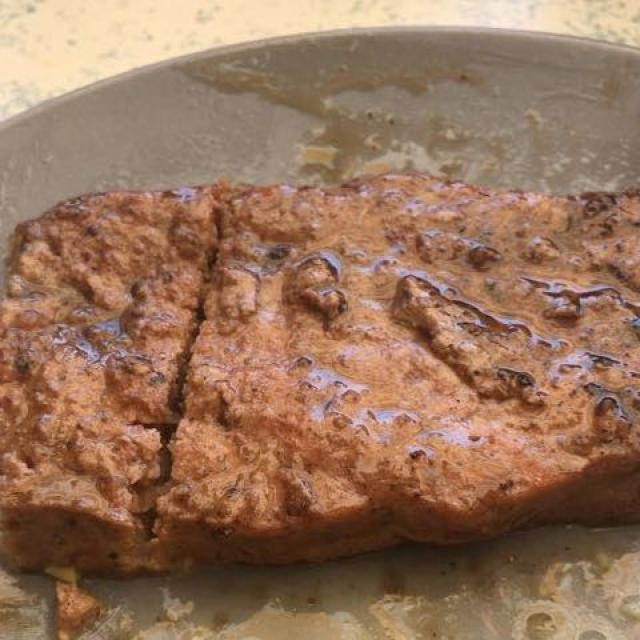beef-sirloin-steak: (2, 179, 630, 574)
butter: (38, 67, 636, 630)
